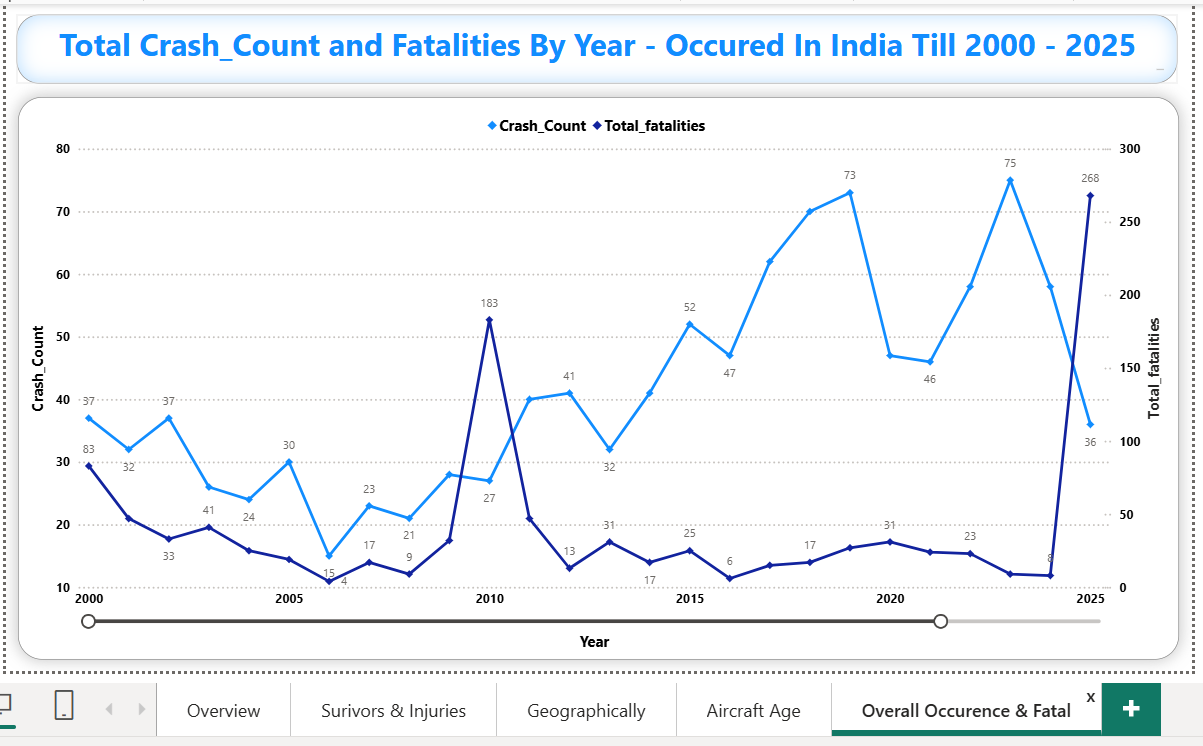

Layout of this report page (visuals, bound fields, positions):
{"tool":"powerbi","page":{"name":"Overall Occurence & Fatal","canvas":[1280,720],"ordinal":4},"visuals":[{"type":"textbox","title":" Total Crash_Count and Fatalities By Year - Occured In India Till 2000 - 2025","box":[12,11,1253.3,74.5],"z":0},{"type":"lineChart","fields":{"Category":["Year_Crash_Fatal.Year"],"Y":["Sum(Year_Crash_Fatal.Crash_Count)"],"Y2":["Sum(Year_Crash_Fatal.Total_fatalities)"]},"box":[13,100.4,1253.3,607.2],"z":1000}]}

Visuals, with their boxes on the page's 1280x720 design canvas (x1, y1, x2, y2). These are canvas units, not pixel positions in the 1203x746 screenshot, which may show the page scaled, cropped or inside an application window:
" Total Crash_Count and Fatalities By Year - Occured In India Till 2000 - 2025" textbox: BBox(12, 11, 1265, 86)
lineChart - Year_Crash_Fatal.Year x Sum(Year_Crash_Fatal.Crash_Count): BBox(13, 100, 1266, 708)
